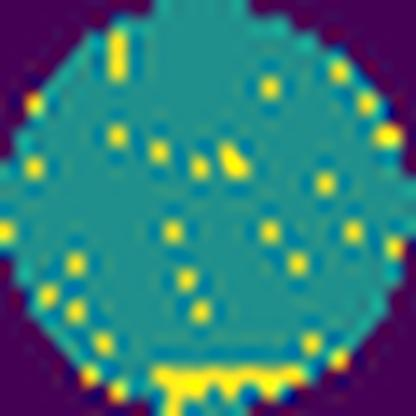Scratch: (146, 357, 314, 416)
